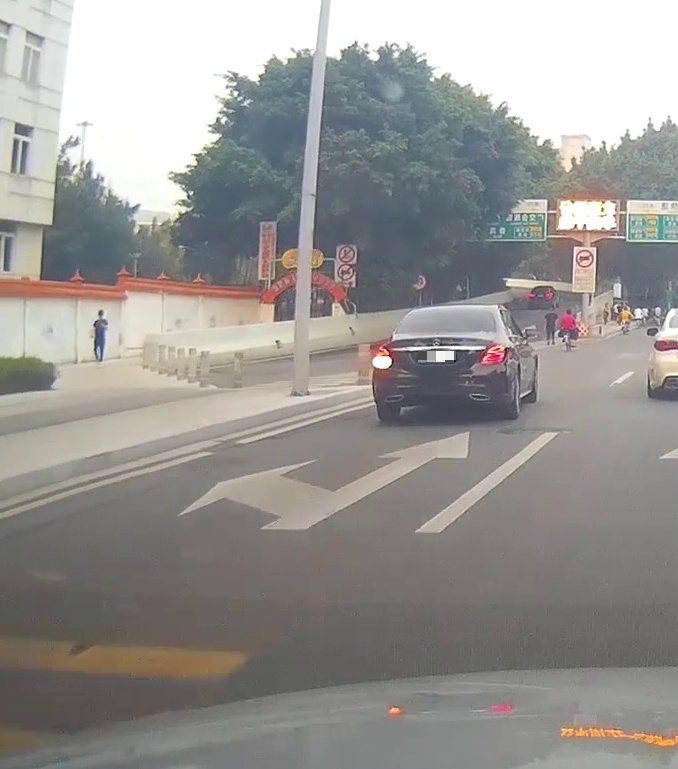L_light: (374, 345, 393, 368)
R_light: (481, 343, 507, 365)
T_light: (441, 310, 459, 314)
day-left: (371, 304, 509, 422)
plate_1: (418, 351, 456, 362)
